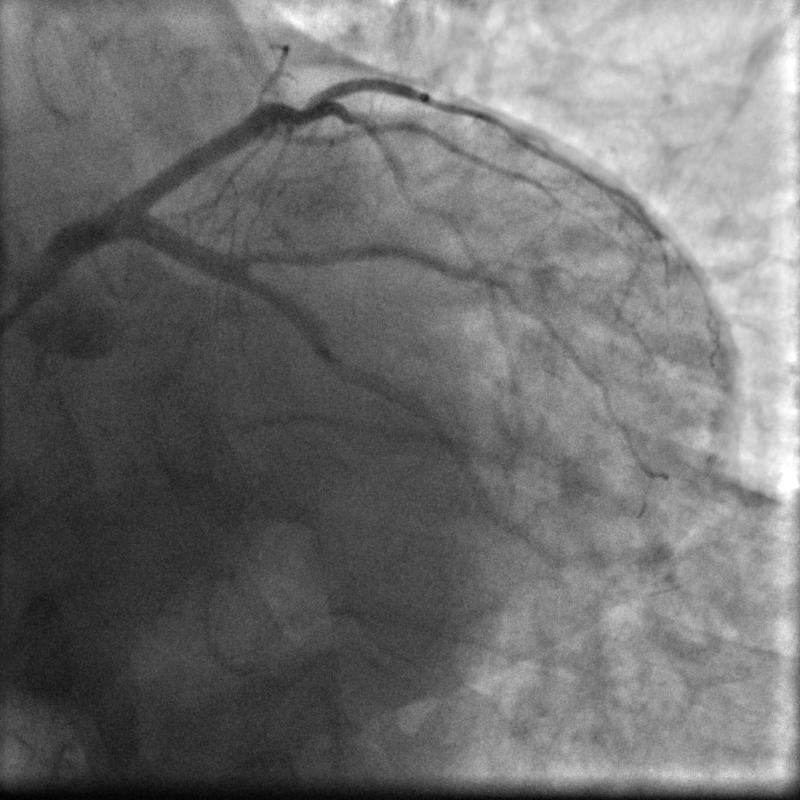Stenosis: (332, 337, 369, 392)
